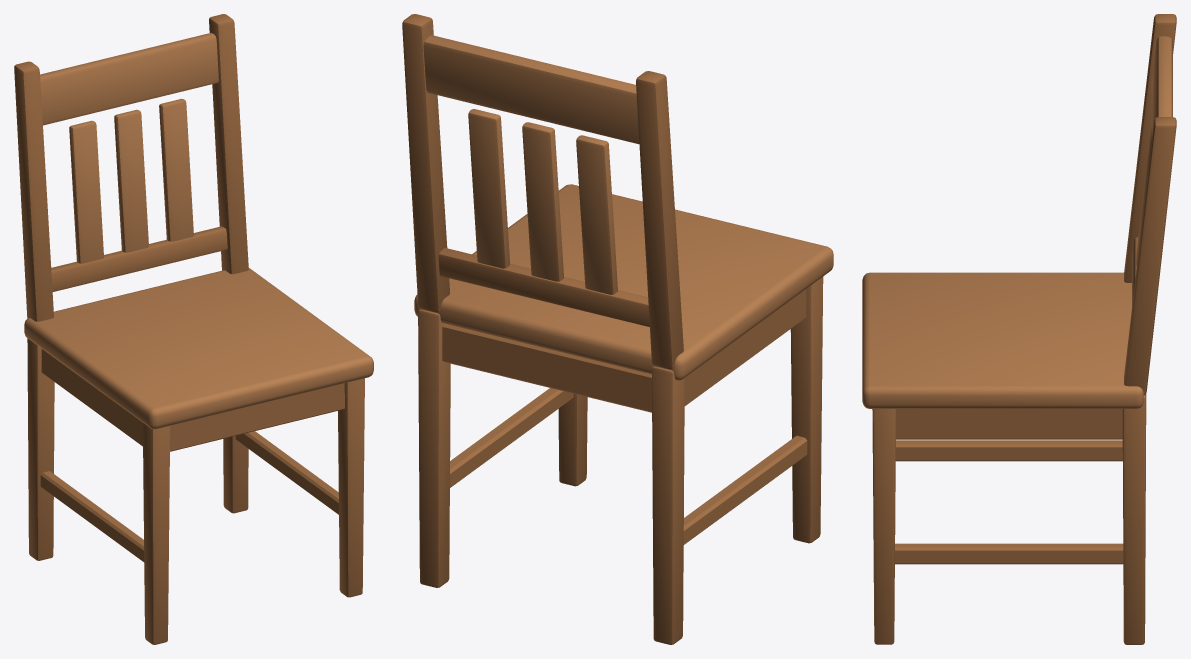
The model's file is Chair.fbx.
3 renders of one model, left to right at view 1: azimuth 30°, elevation 25°; view 2: azimuth 150°, elevation 25°; view 3: azimuth 270°, elevation 25°, orthographic. The views are drawn at different scales.
Visible parts, largest first — view 1: Chair_Mesh; view 2: Chair_Mesh; view 3: Chair_Mesh.
Boxes of the visible parts, x1,y1,x2,y2 form: Chair_Mesh: [14, 14, 373, 644]; Chair_Mesh: [402, 14, 833, 644]; Chair_Mesh: [862, 14, 1176, 644].
Size of the model in its own units: 0.45 by 0.92 by 0.5024.
